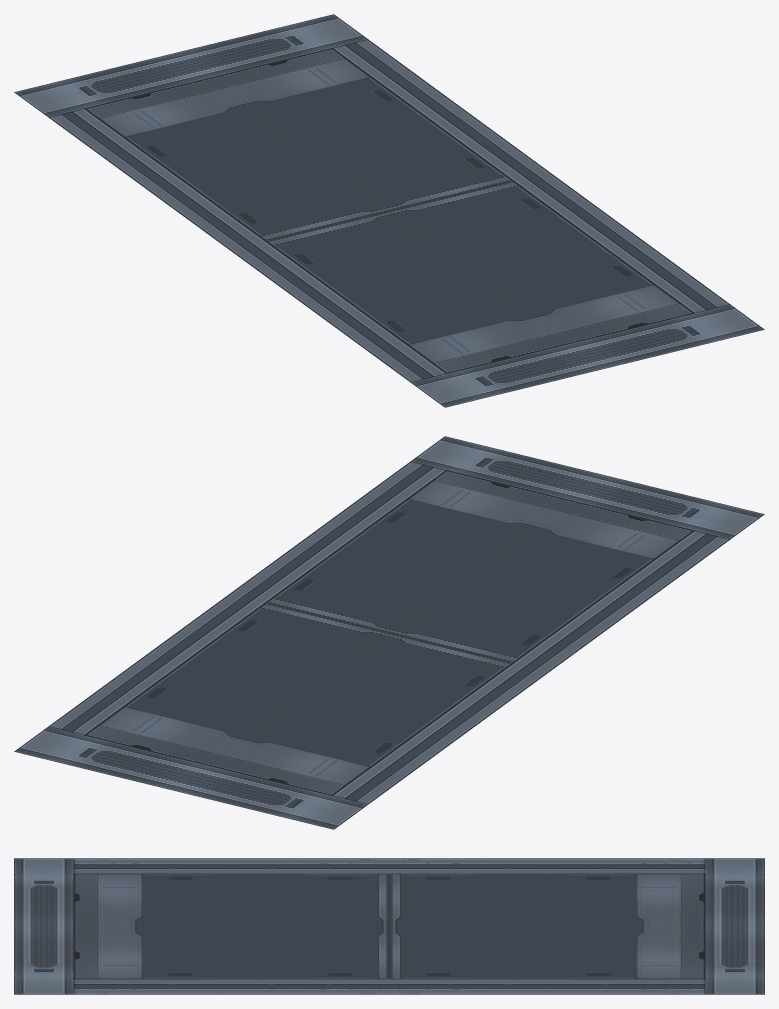
File: my_carrier_01_carpet_03.glb
3 renders of one model, top to bottom at view 1: azimuth 30°, elevation 25°; view 2: azimuth 150°, elevation 25°; view 3: azimuth 270°, elevation 25°, orthographic. The views are drawn at different scales.
Parts seen in each view (by area): view 1: my_carrier_01_carpet_03; view 2: my_carrier_01_carpet_03; view 3: my_carrier_01_carpet_03.
Part boxes in pixels (x1,y1,x2,y2): my_carrier_01_carpet_03: (14, 14, 764, 407); my_carrier_01_carpet_03: (14, 436, 764, 829); my_carrier_01_carpet_03: (14, 858, 764, 994).
Bounding box in the file's own units: 0.018 × 2.29e-09 × 0.042.
1 material, 1 textured.
